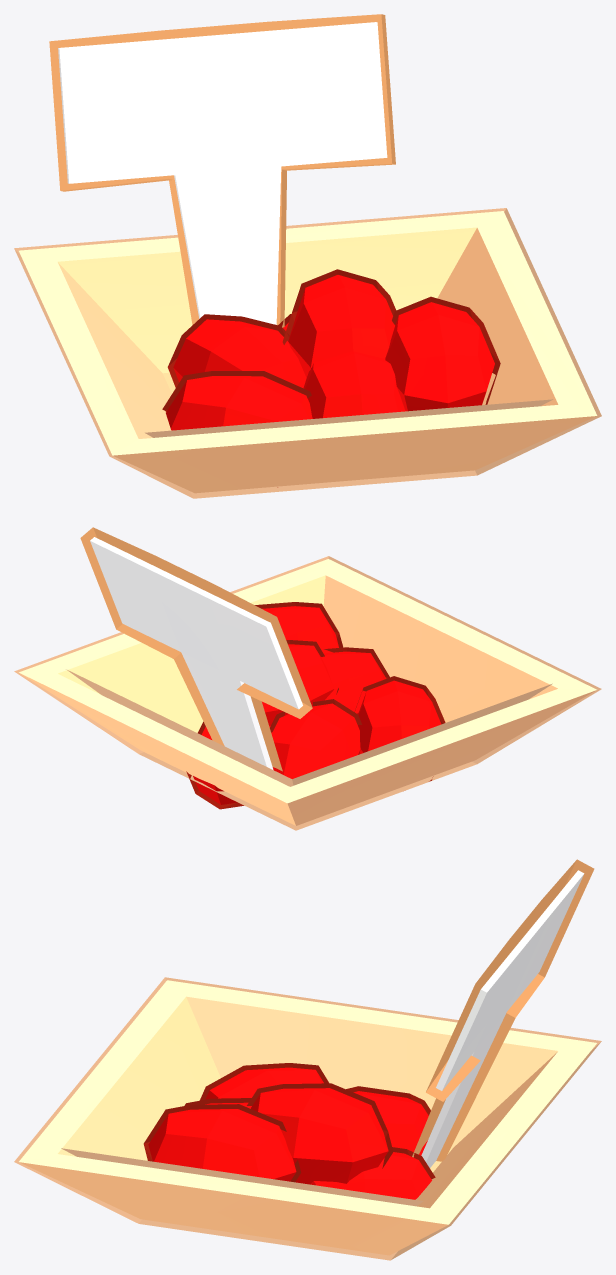
The model's file is redSeeds-positioned.glb.
3 renders of one model, top to bottom at view 1: azimuth 30°, elevation 25°; view 2: azimuth 150°, elevation 25°; view 3: azimuth 270°, elevation 25°, orthographic. The views are drawn at different scales.
Visible parts, largest first — view 1: redSeeds, redSeeds.001; view 2: redSeeds, redSeeds.001; view 3: redSeeds, redSeeds.001.
Part boxes in pixels (left/top/right/bottom): redSeeds: left=19, top=22, right=597, bottom=493; redSeeds.001: left=14, top=14, right=601, bottom=498; redSeeds: left=19, top=537, right=596, bottom=825; redSeeds.001: left=14, top=527, right=601, bottom=830; redSeeds: left=19, top=870, right=596, bottom=1255; redSeeds.001: left=14, top=859, right=601, bottom=1260.
Bounding box in the file's own units: 0.5197 × 0.3126 × 0.5197.
2 materials, 2 textured.
